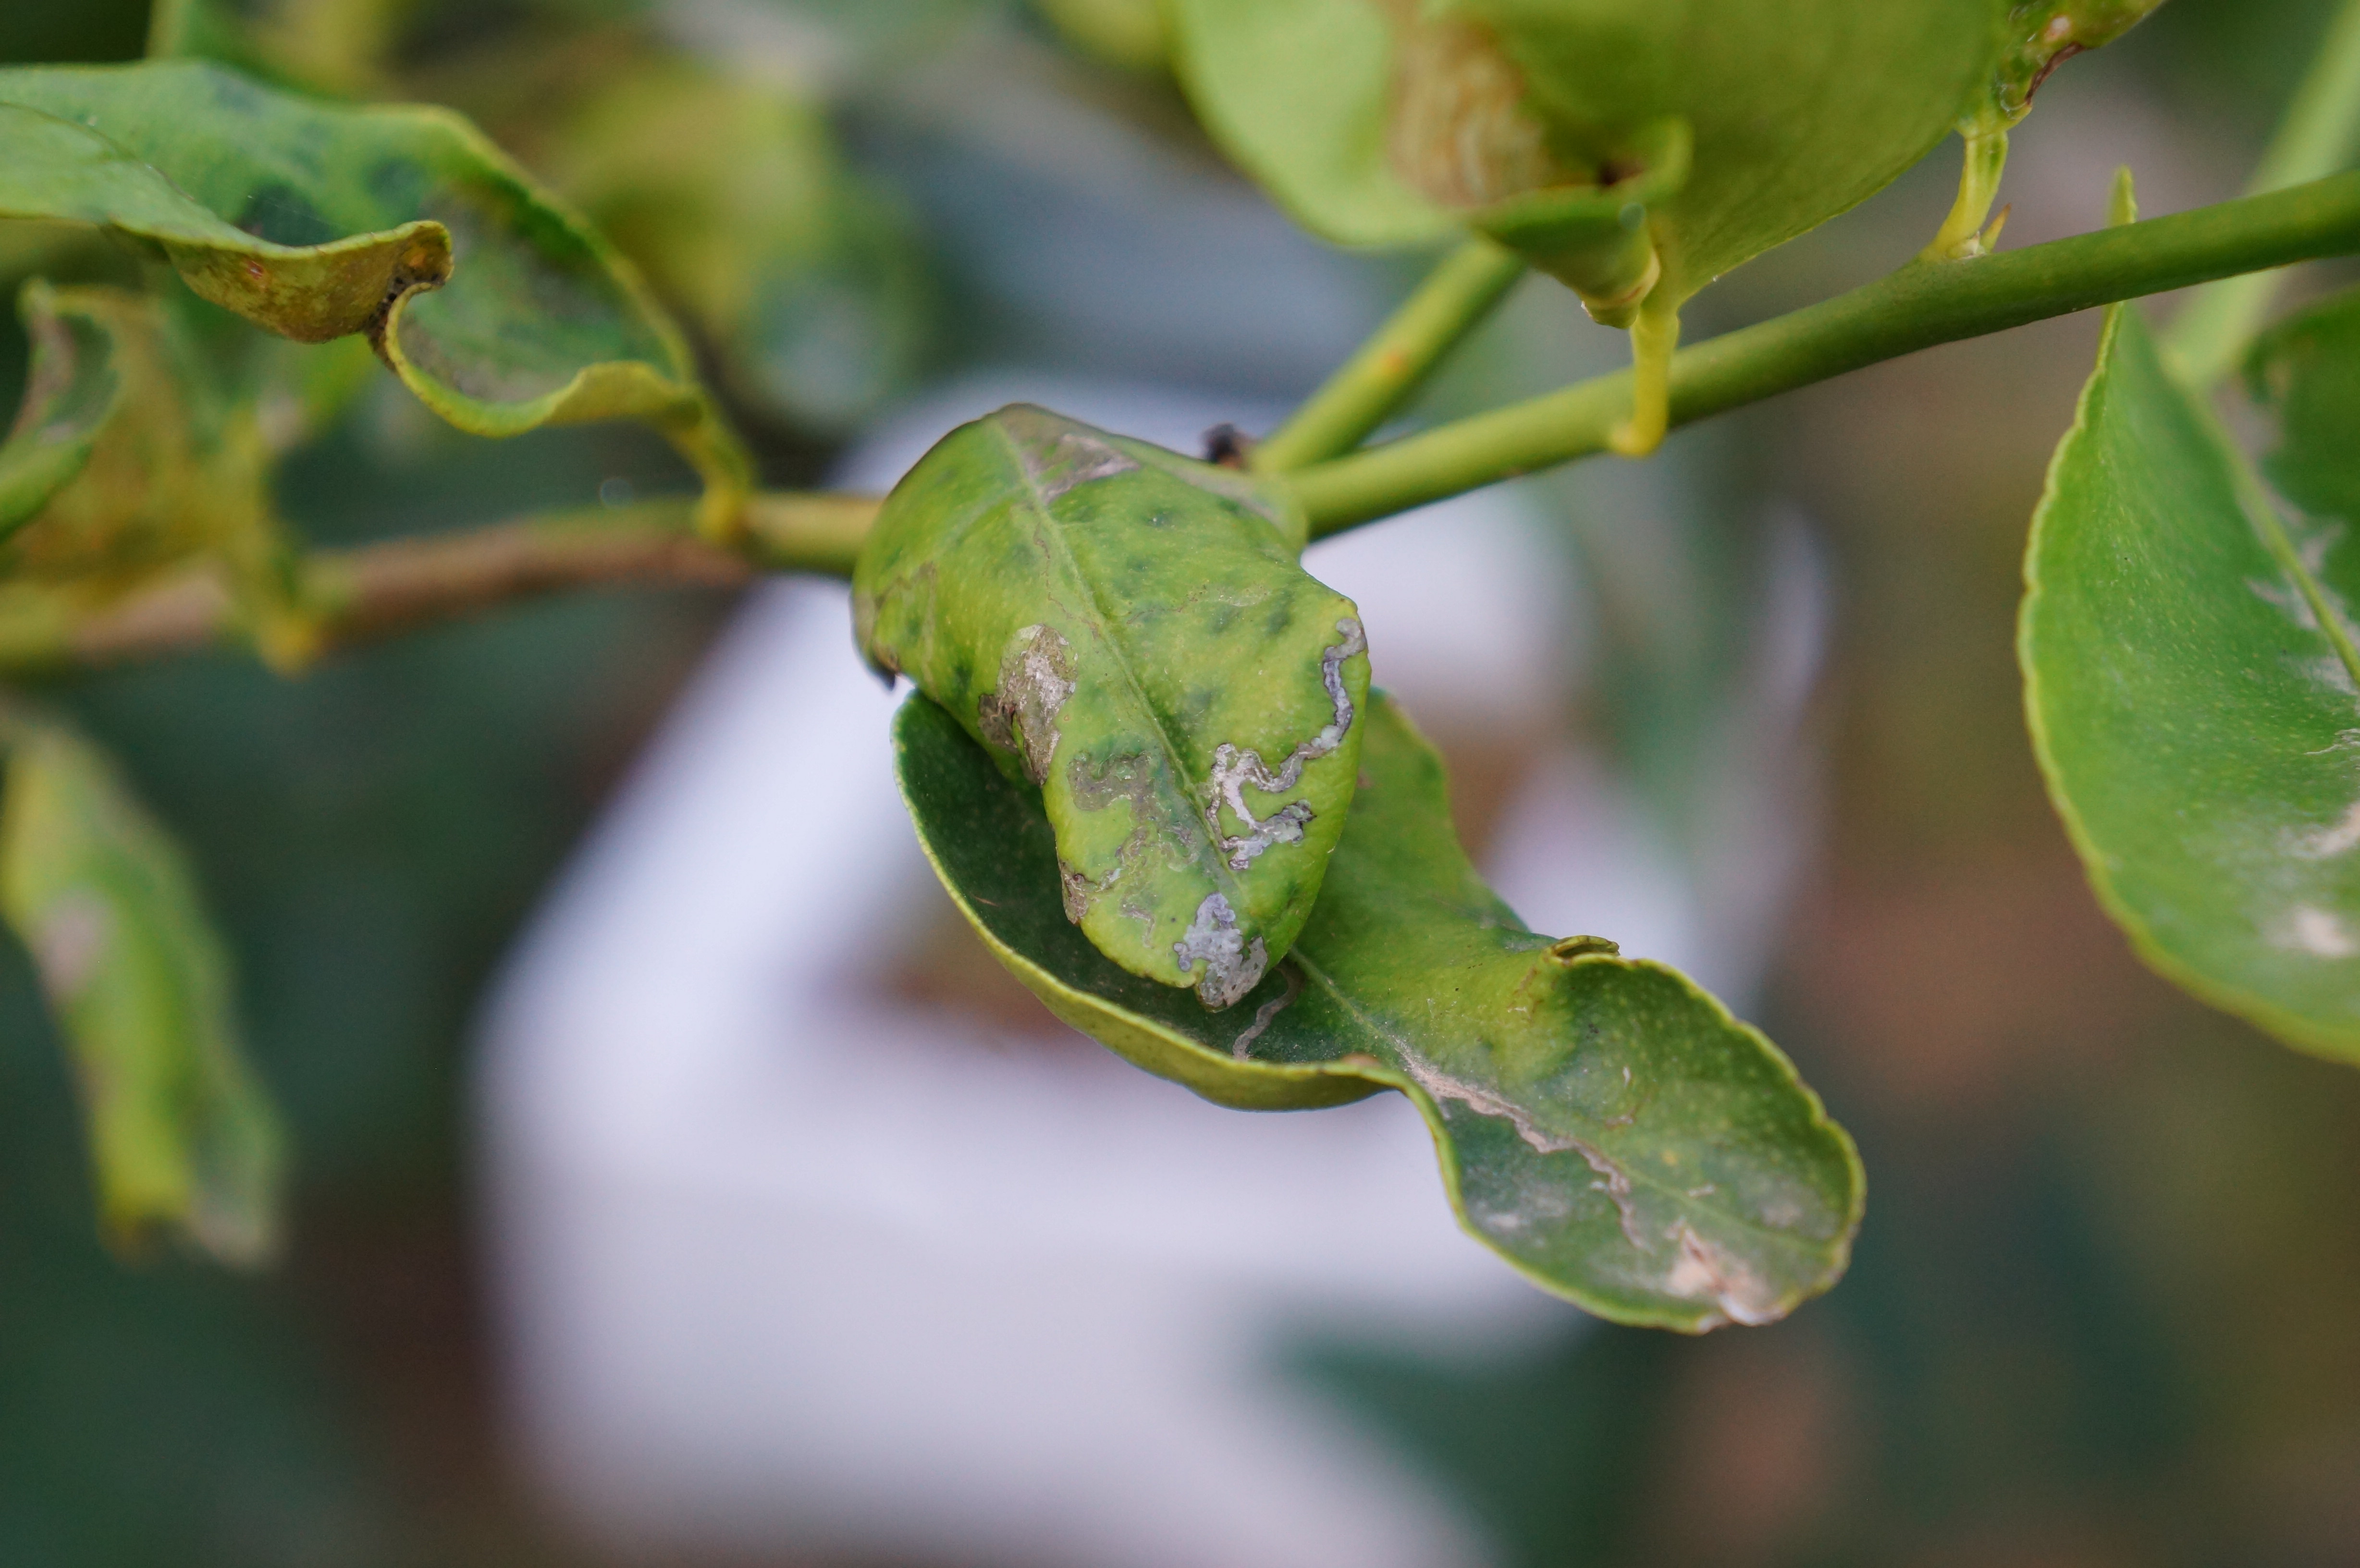damage: (960, 581, 1382, 1015)
